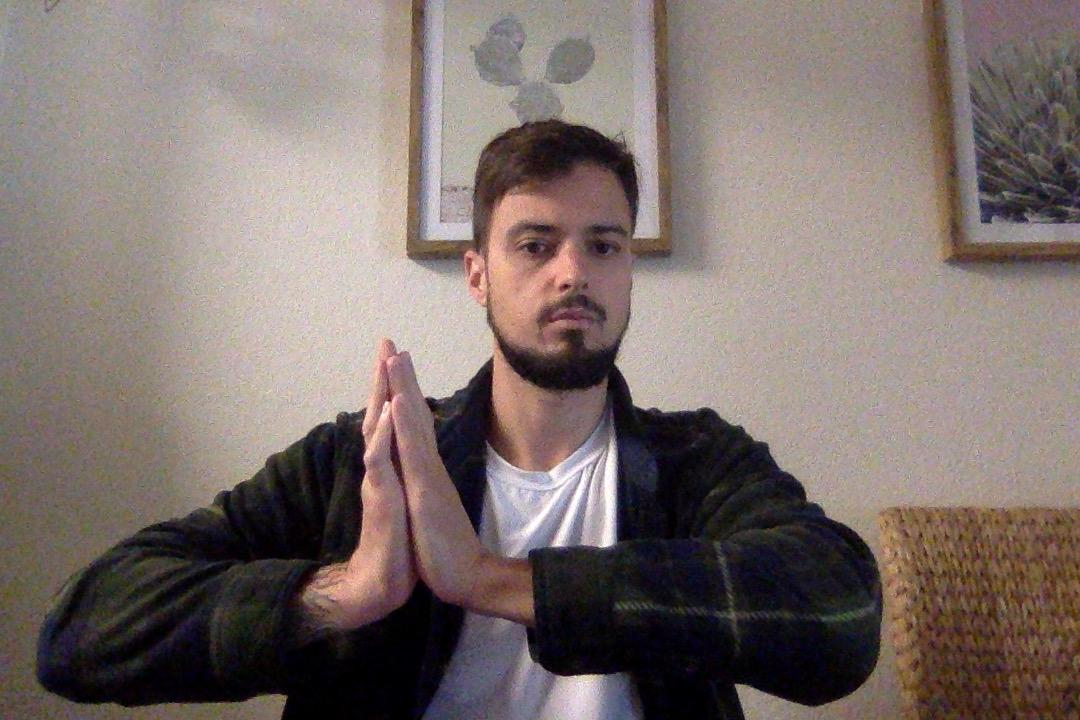Praying-Hands: (319, 333, 507, 646)
